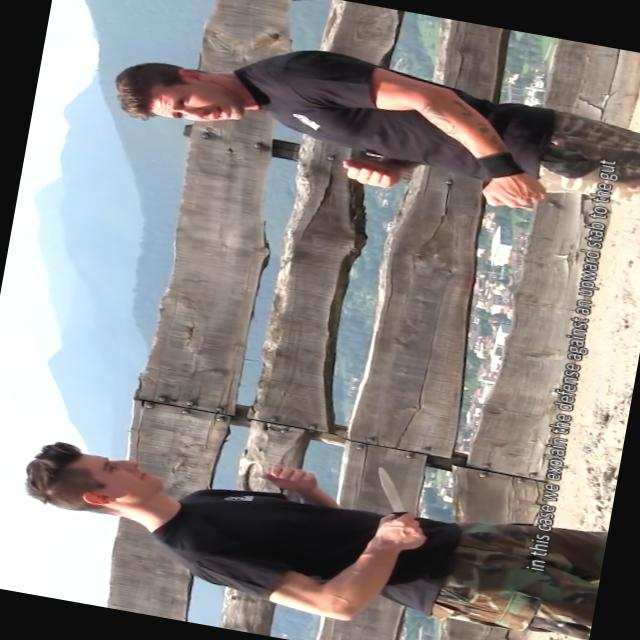knife: (354, 458, 439, 554)
